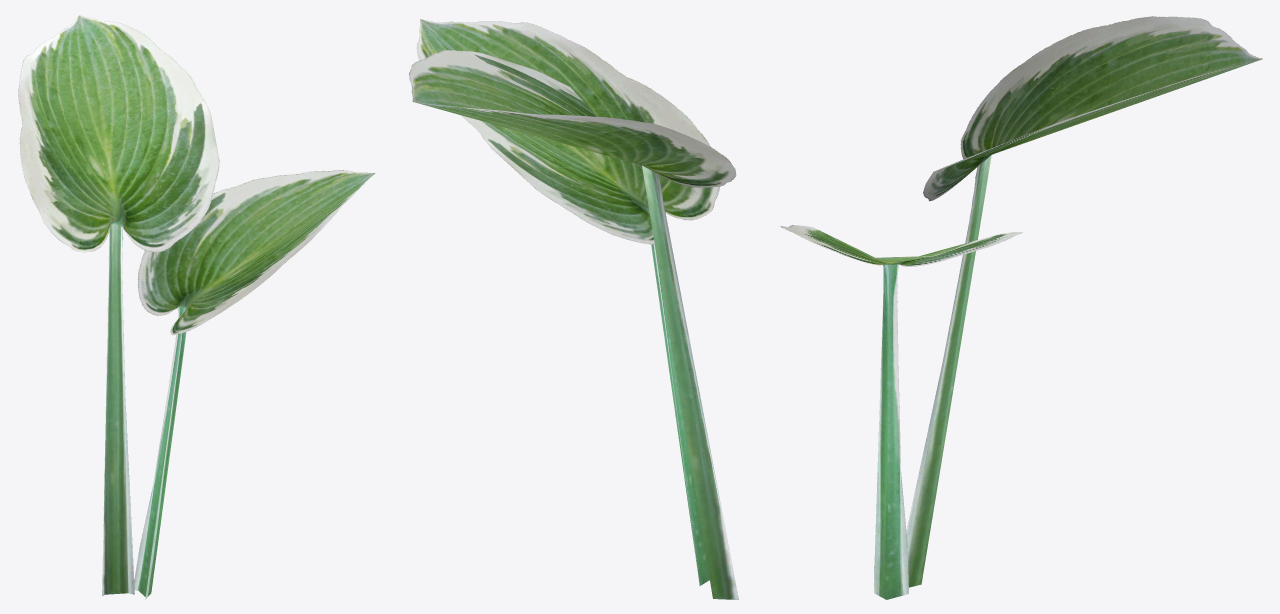
The model's file is plant_small_wg_05P.fbx.
3 renders of one model, left to right at view 1: azimuth 30°, elevation 25°; view 2: azimuth 150°, elevation 25°; view 3: azimuth 270°, elevation 25°, orthographic. The views are drawn at different scales.
Visible parts, largest first — view 1: plant_small_wg_05P; view 2: plant_small_wg_05P; view 3: plant_small_wg_05P.
Part boxes in pixels (x1,y1,x2,y2): plant_small_wg_05P: (18, 15, 375, 599); plant_small_wg_05P: (409, 19, 738, 599); plant_small_wg_05P: (780, 16, 1262, 599).
Bounding box in the file's own units: 24.07 × 34.69 × 26.08.
